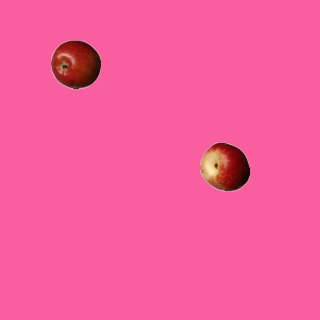Apple Braeburn: (50, 39, 100, 89)
Nectarine: (199, 141, 249, 191)
